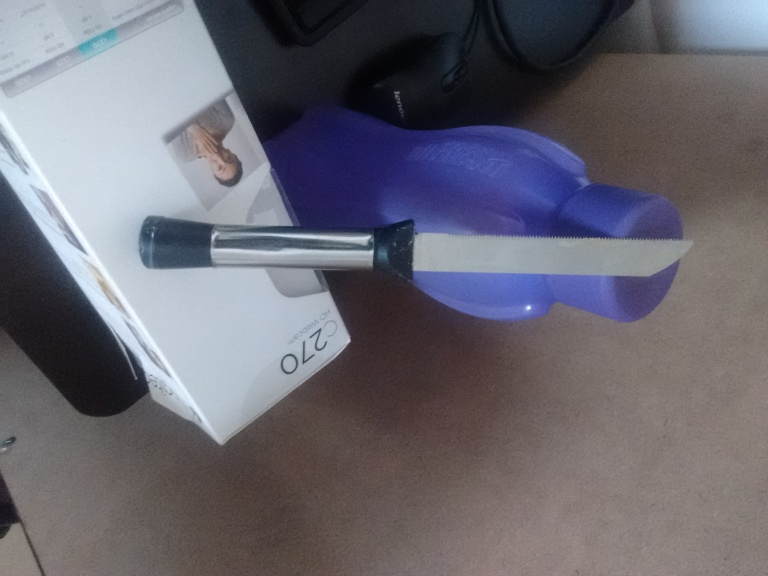knife: (134, 208, 696, 285)
